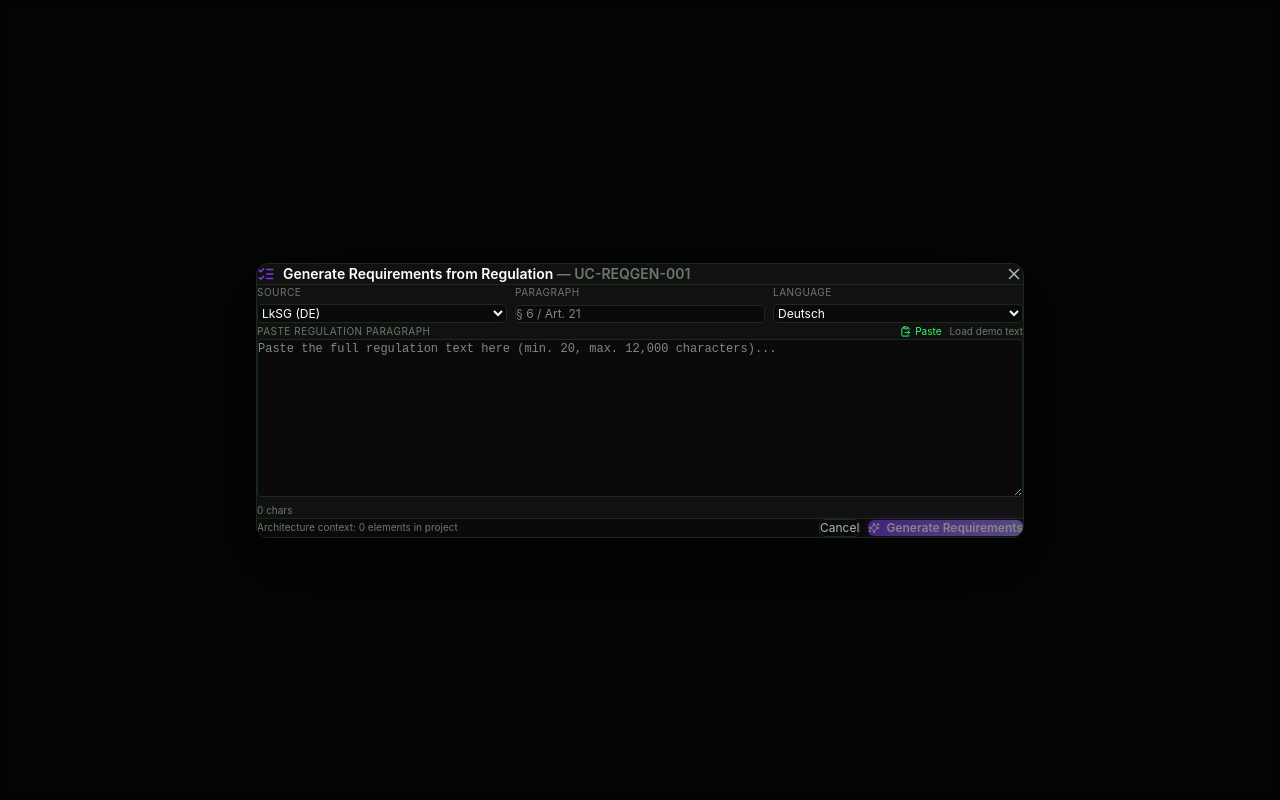
Test case: shows chain stats and the measured error-rest sentence after a chain generate
Replace the text in the text box with placeholder "Paste" with "Die Einrichtungen übermitteln binnen 72 Stunden nach Kenntnisnahme eine Meldung an das CSIRT.": (640, 418) [257,338,1023,496]
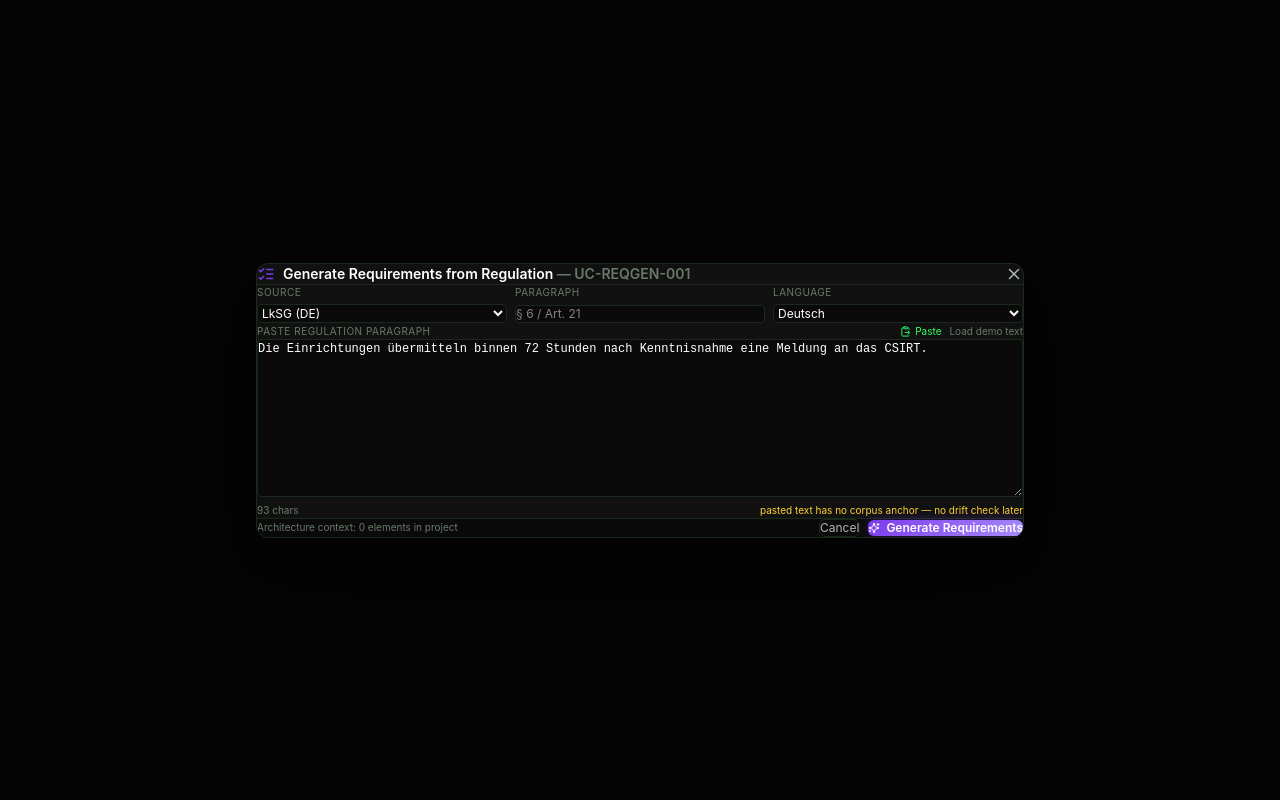
Click the button "Generate Requirements": (946, 528) [868,520,1023,536]
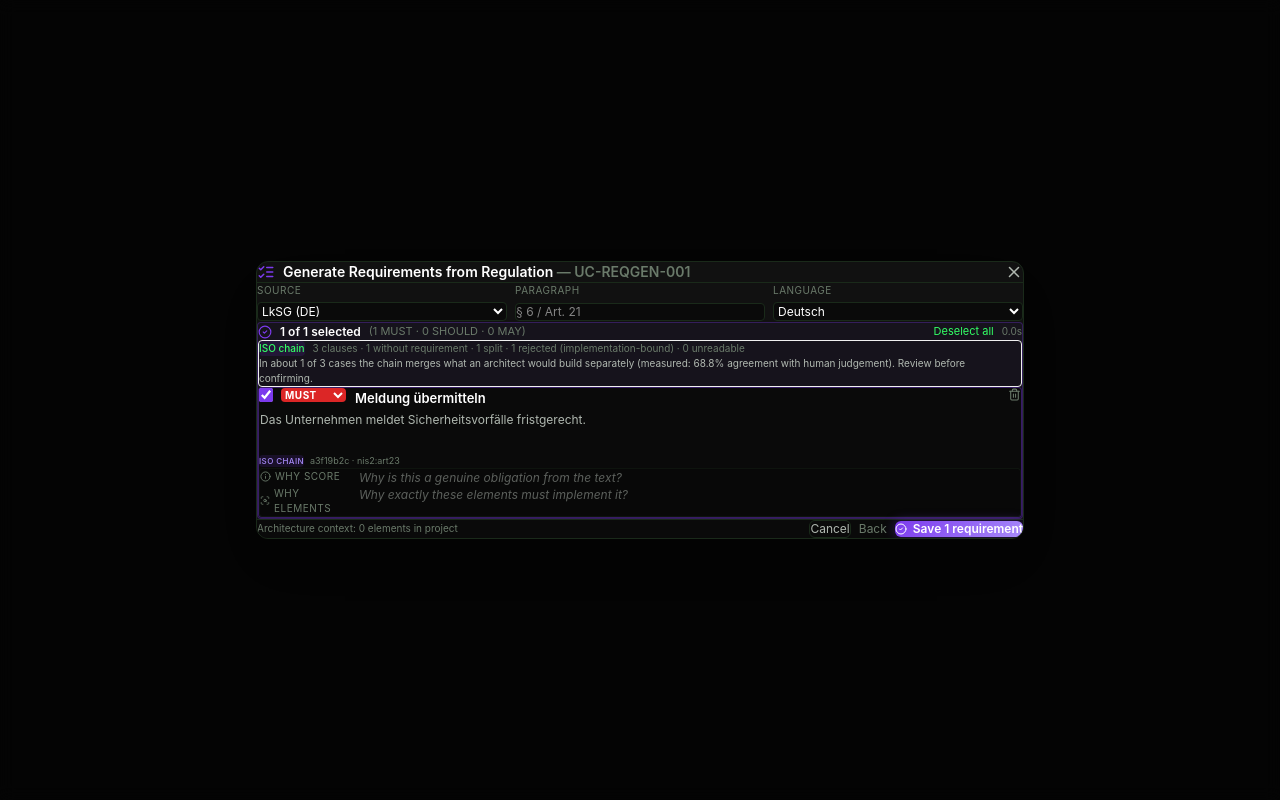
Expected: the text with test id "chain-stats" shows "3 clauses", [312,341,745,356]
Expected: the text with test id "chain-stats" shows "1 rejected (implementation-bound)", [312,341,745,356]
Expected: the text "68.8% agreement" is shown, [259,357,965,384]
